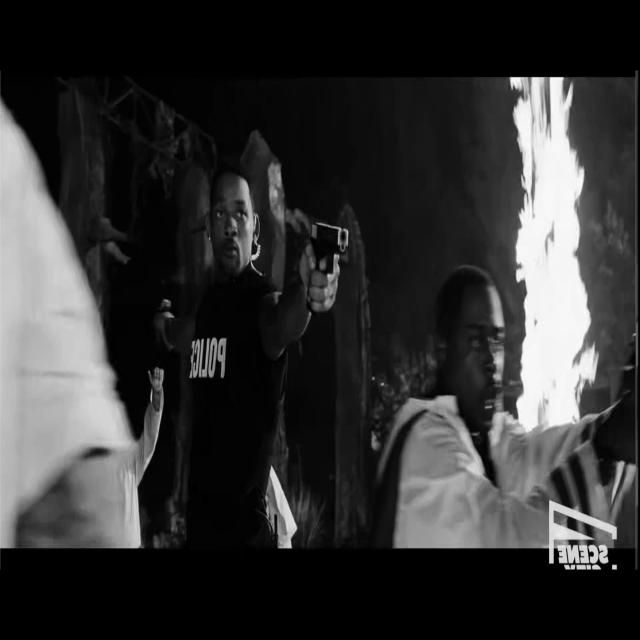weapons: (299, 198, 361, 324)
